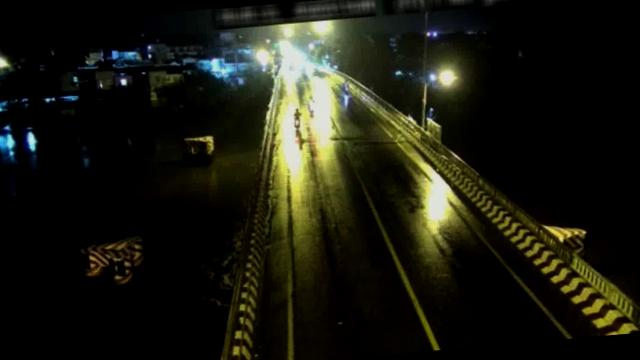Bike: (294, 107, 304, 128)
